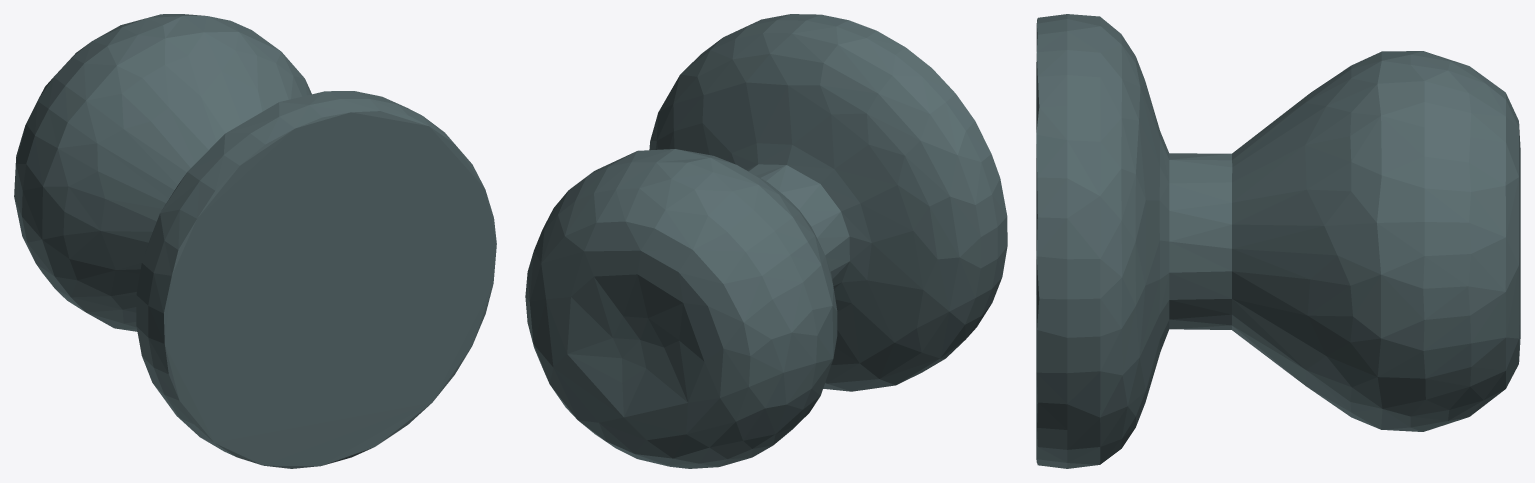
File: BézierCurve.002.glb
The picture shows the model from 3 angles, left to right: view 1: azimuth 30°, elevation 25°; view 2: azimuth 150°, elevation 25°; view 3: azimuth 270°, elevation 25°; orthographic projection. The views are drawn at different scales.
Visible parts, largest first — view 1: BézierCurve.005; view 2: BézierCurve.005; view 3: BézierCurve.005.
Boxes of the visible parts, bbox=[...] form: BézierCurve.005: bbox=[14, 14, 496, 468]; BézierCurve.005: bbox=[525, 14, 1007, 468]; BézierCurve.005: bbox=[1036, 14, 1520, 468].
Bounding box in the file's own units: 0.0901 × 0.0902 × 0.096.
